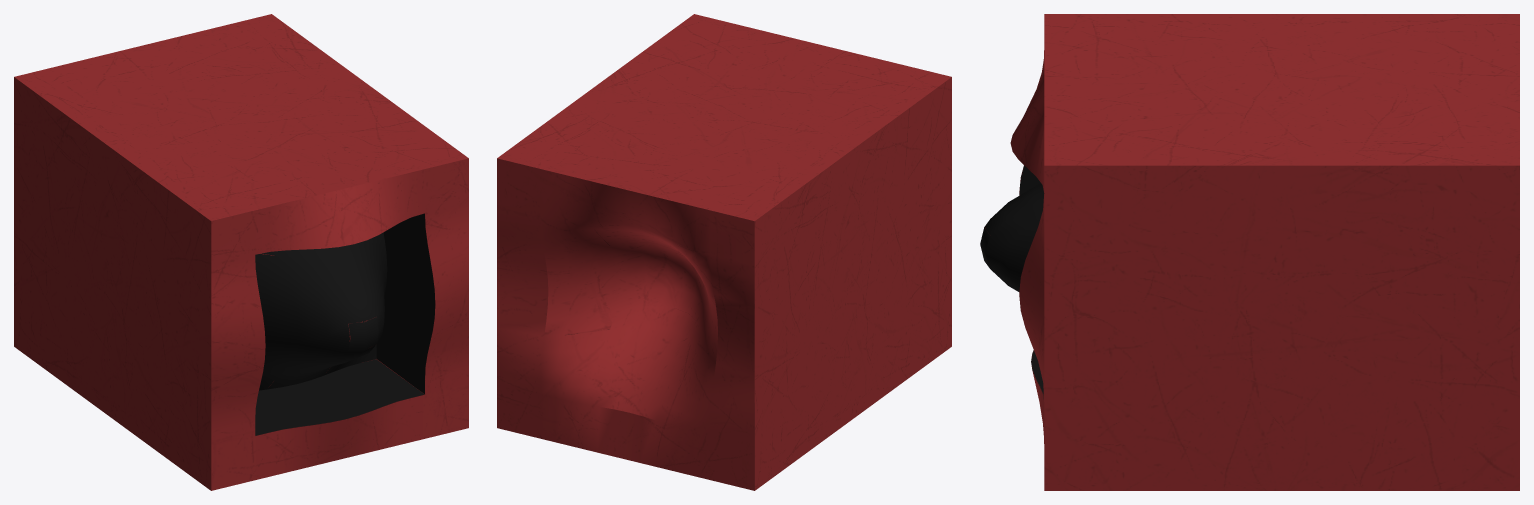
Rendered from redtrampoline.fbx.
3 renders of one model, left to right at view 1: azimuth 30°, elevation 25°; view 2: azimuth 150°, elevation 25°; view 3: azimuth 270°, elevation 25°, orthographic. The views are drawn at different scales.
Parts seen in each view (by area): view 1: trampoline; view 2: trampoline; view 3: trampoline.
Part boxes in pixels (x1,y1,x2,y2): trampoline: (14, 14, 468, 490); trampoline: (497, 14, 951, 490); trampoline: (980, 14, 1519, 490).
Size of the model in its own units: 2 by 2 by 3.01.
